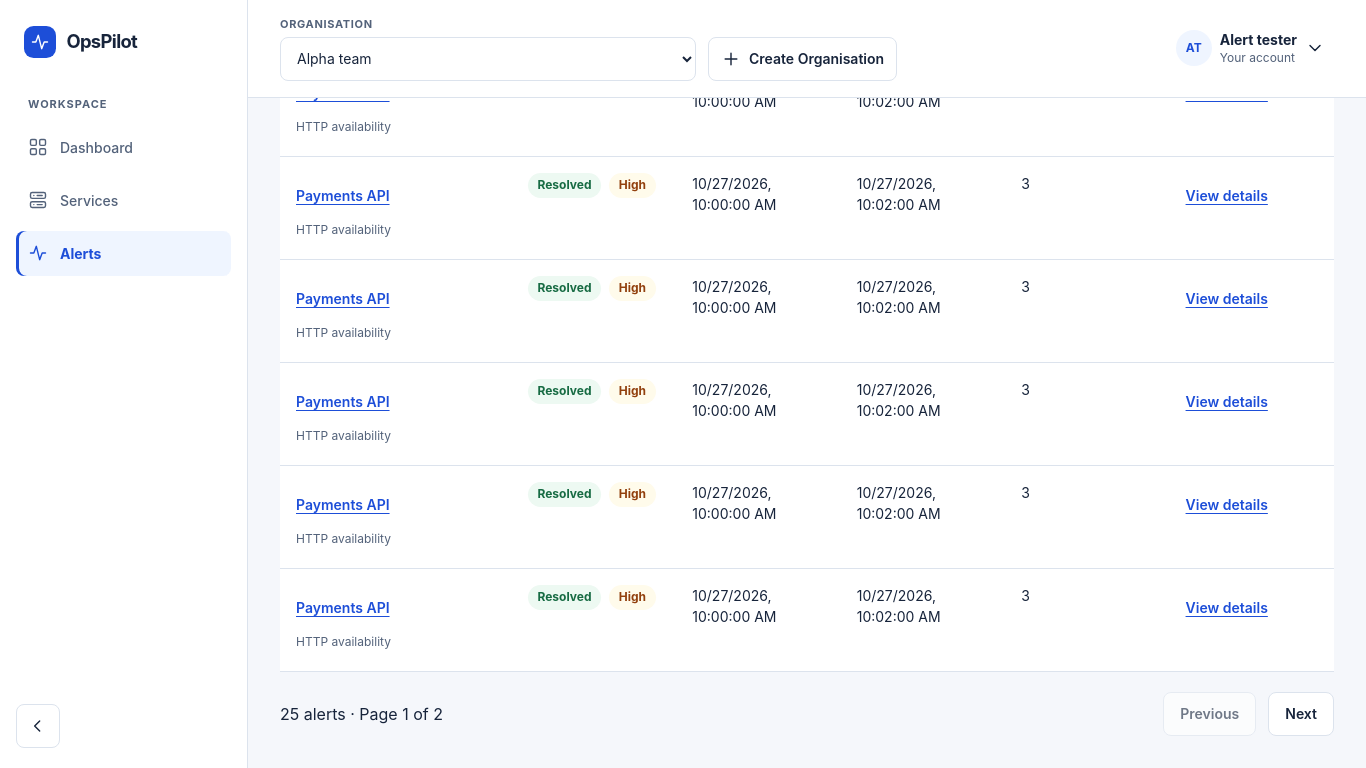
next and previous request server pages rather than slicing an incomplete client list
The width and height of the screenshot is (1366, 768).
(page scrolled)
Expected: the text "25 alerts · Page 1 of 2" is shown, [280, 702, 443, 726]
Step 1. Click the button "Next" → (1301, 714), box [1268, 692, 1334, 736]
(page scrolled)
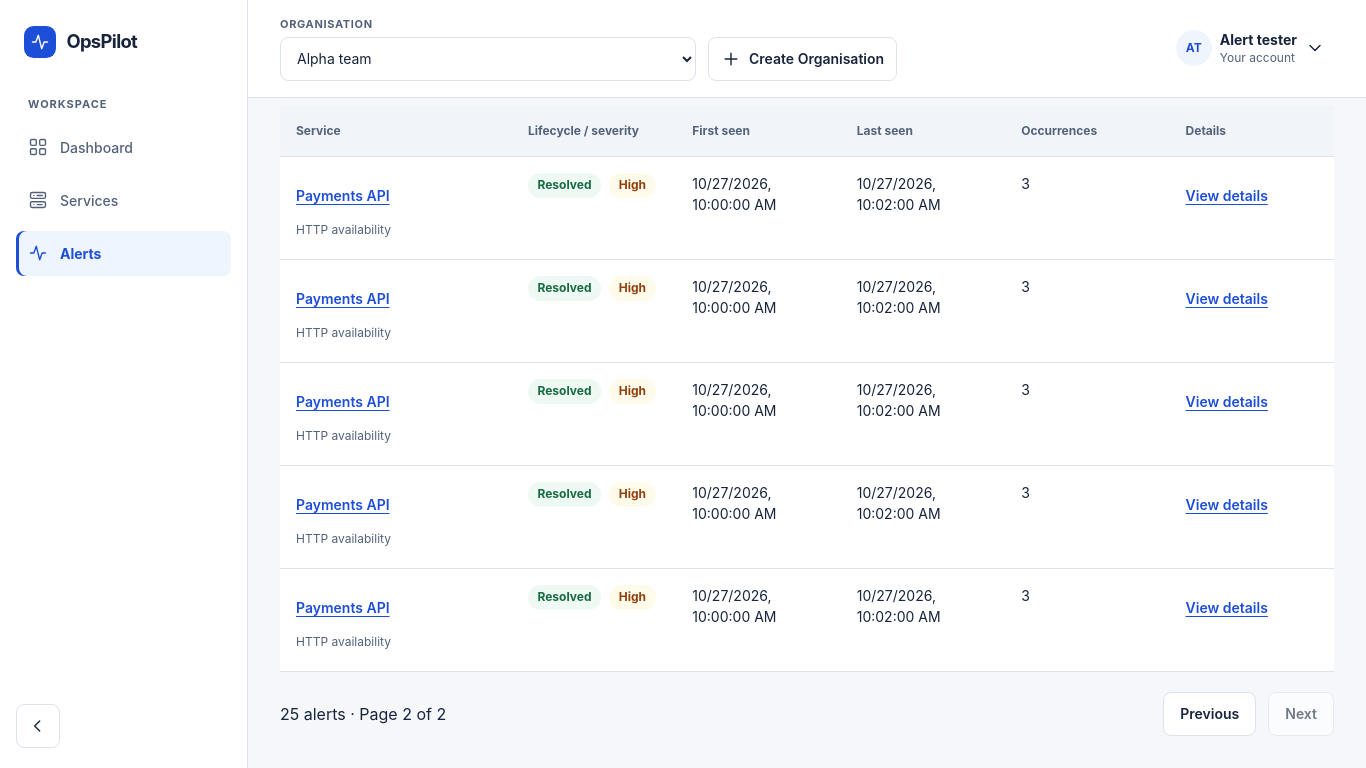
Expected: the number of links named "View alert" is 5, [1186, 187, 1268, 204]; [1186, 290, 1268, 307]; [1186, 393, 1268, 410]; [1186, 496, 1268, 513]; [1186, 599, 1268, 616]
Now the text "25 alerts · Page 2 of 2" is shown, box [280, 702, 446, 726]
Step 2. Click the button "Previous" → (1210, 714), box [1163, 692, 1256, 736]
(page scrolled)
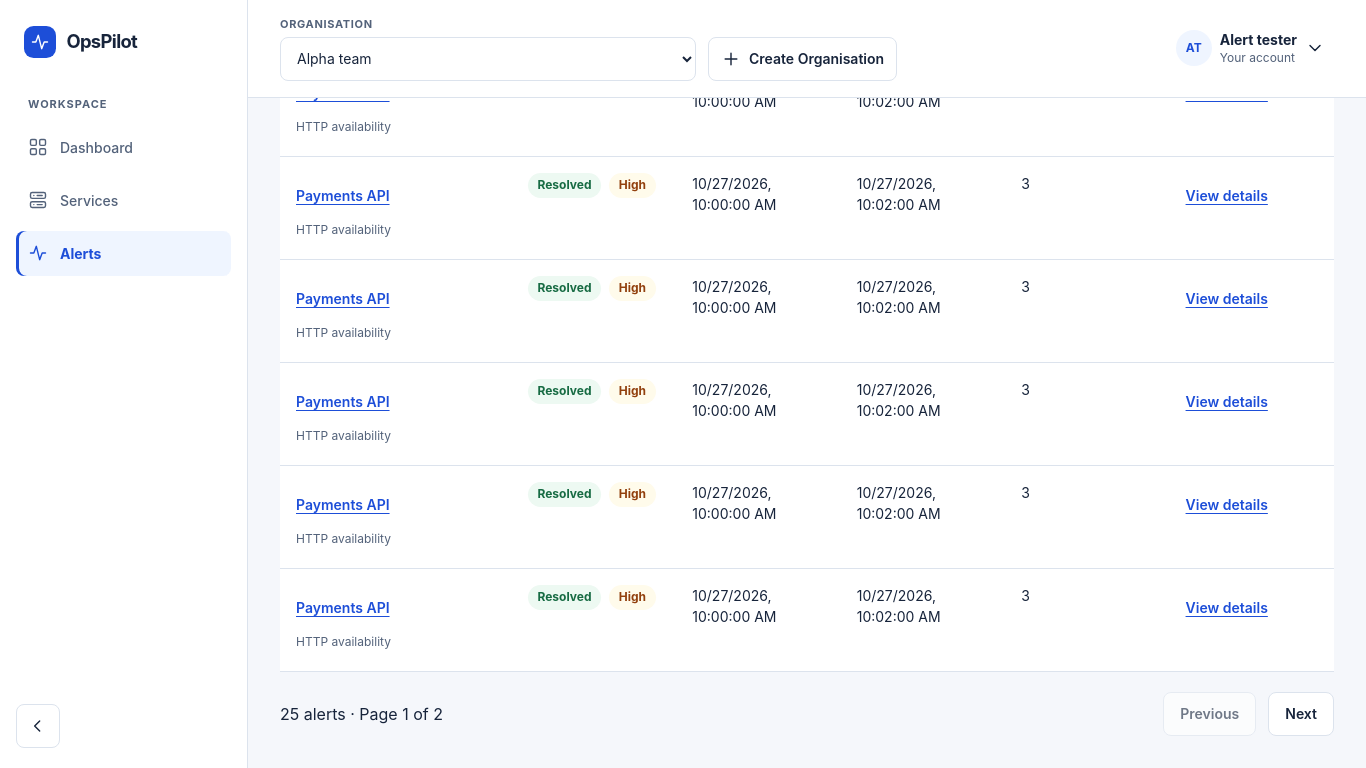
Now the text "25 alerts · Page 1 of 2" is shown, box [280, 702, 443, 726]
